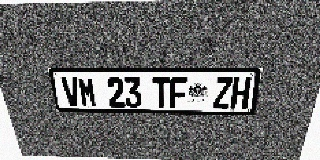2: (106, 77, 125, 107)
3: (124, 77, 142, 107)
F: (170, 77, 187, 108)
H: (230, 77, 252, 109)
M: (77, 77, 97, 107)
T: (152, 77, 169, 108)
V: (61, 77, 82, 107)
Z: (213, 77, 233, 108)
